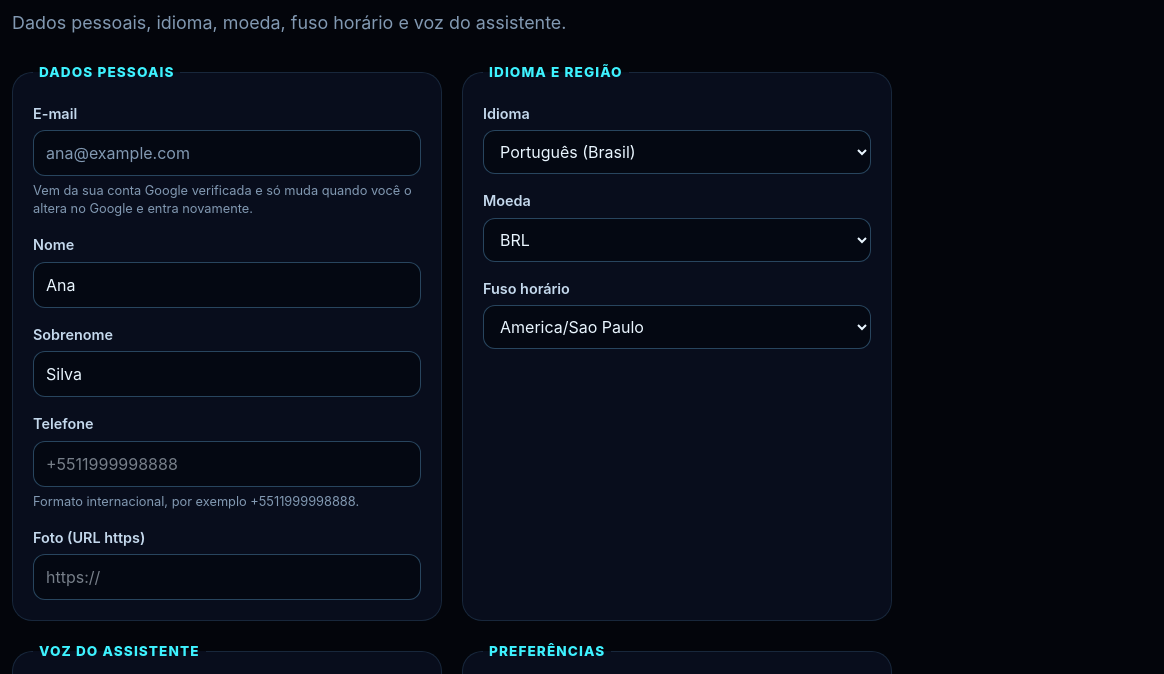
ProfilePage › updates the preview live with currency, language and time zone
Step 1. Select "USD" in the dropdown labelled "Moeda" → (677,240), box [483,218,871,262]
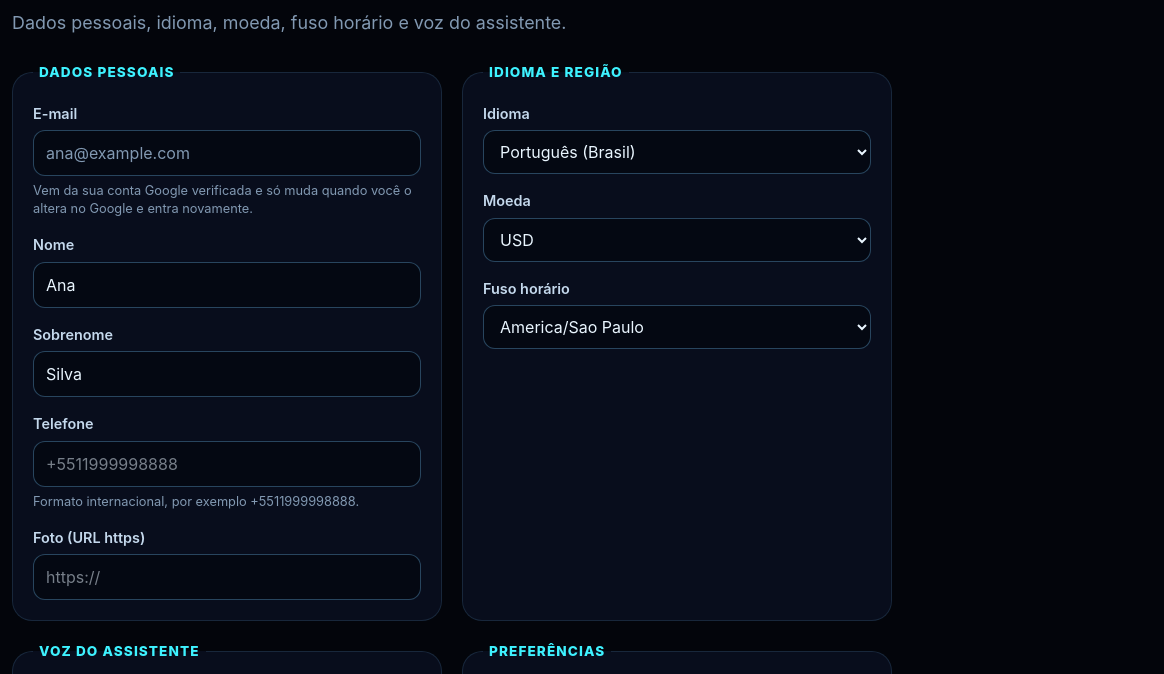
Step 2. Select "English (United States)" in the dropdown labelled "Idioma" → (677,152), box [483,130,871,174]
(page scrolled)
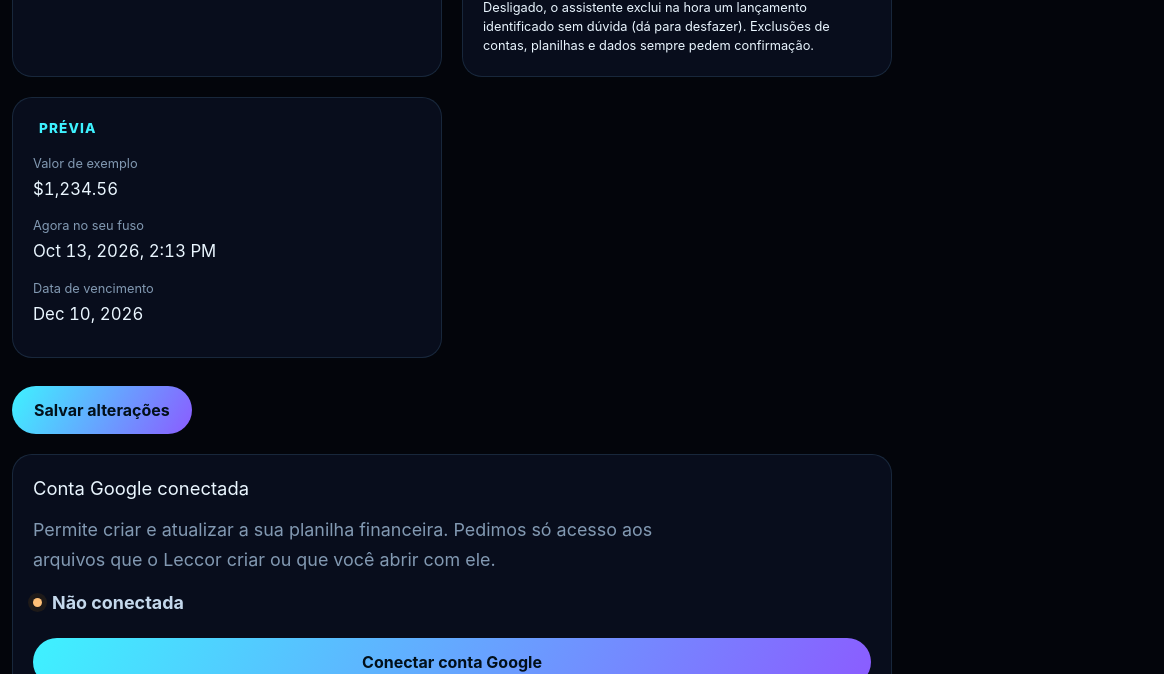
Expected: the text with test id "preview-date" reads "Dec 10, 2026", [33,304,143,324]
